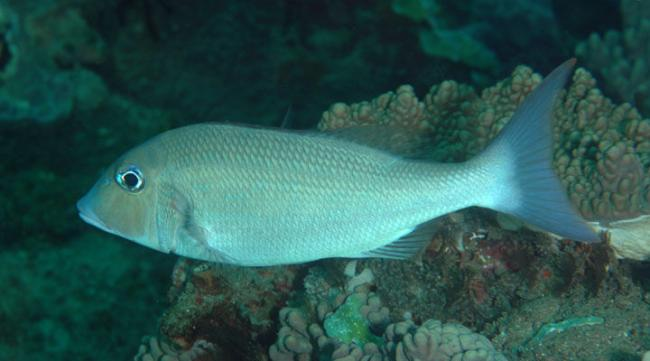fish: (75, 57, 602, 266)
